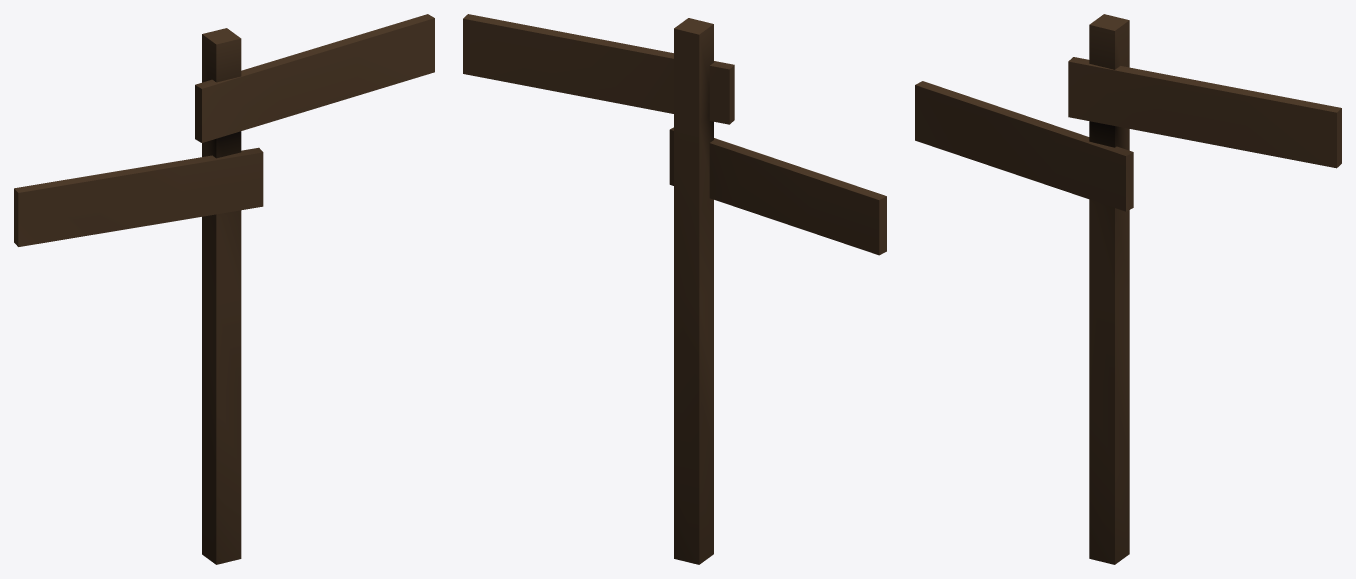
The model's file is signpost.glb.
The picture shows the model from 3 angles, left to right: view 1: azimuth 30°, elevation 25°; view 2: azimuth 150°, elevation 25°; view 3: azimuth 330°, elevation 25°; orthographic projection. The views are drawn at different scales.
Parts seen in each view (by area): view 1: signpost; view 2: signpost; view 3: signpost.
Part boxes in pixels (bbox=[...]): signpost: bbox=[14, 14, 434, 564]; signpost: bbox=[463, 14, 886, 564]; signpost: bbox=[915, 14, 1341, 564].
Bounding box in the file's own units: 2 × 2.4 × 0.2138.
